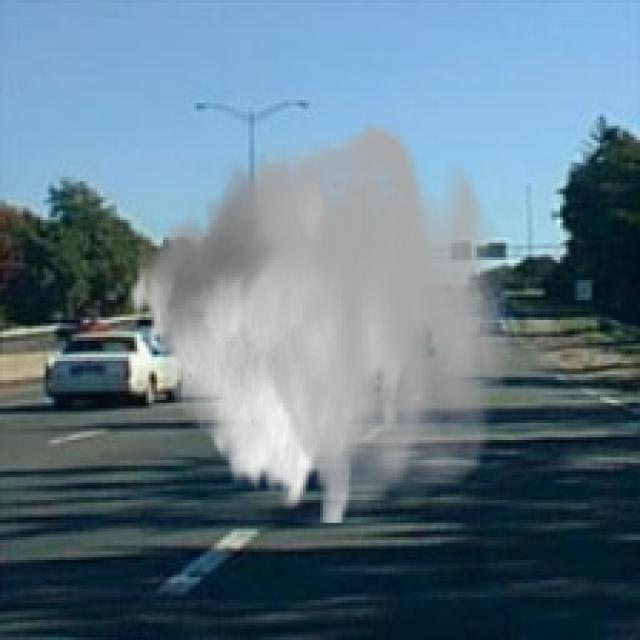smoke: (126, 117, 511, 523)
